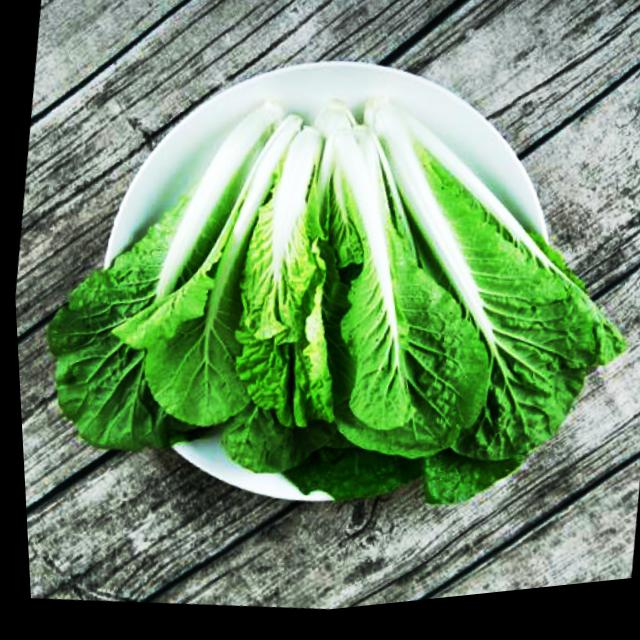chinese_cabbage: (5, 34, 640, 598)
